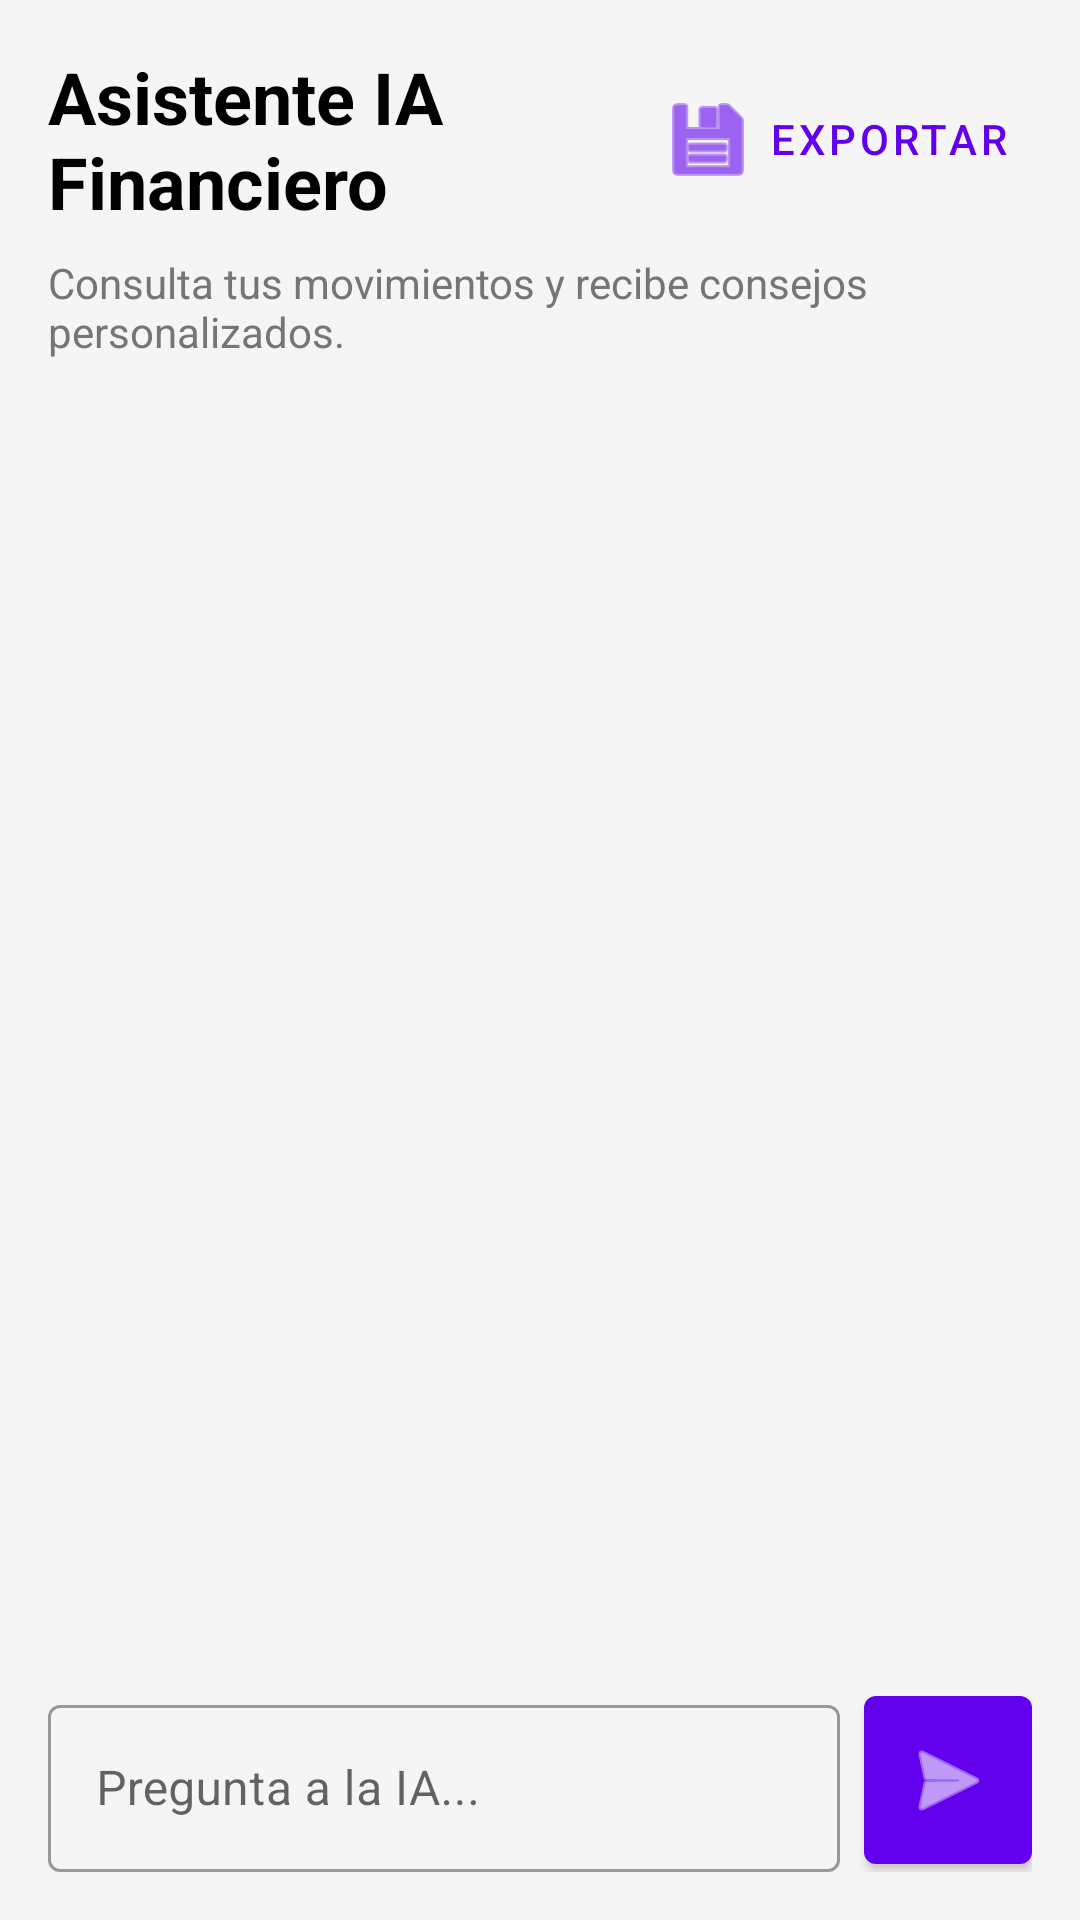

Screen size 1080 x 1920. Icon name, then its box in pixels as bbox=(x1, y1, x2, y2):
send: bbox=(864, 1696, 1032, 1864)
